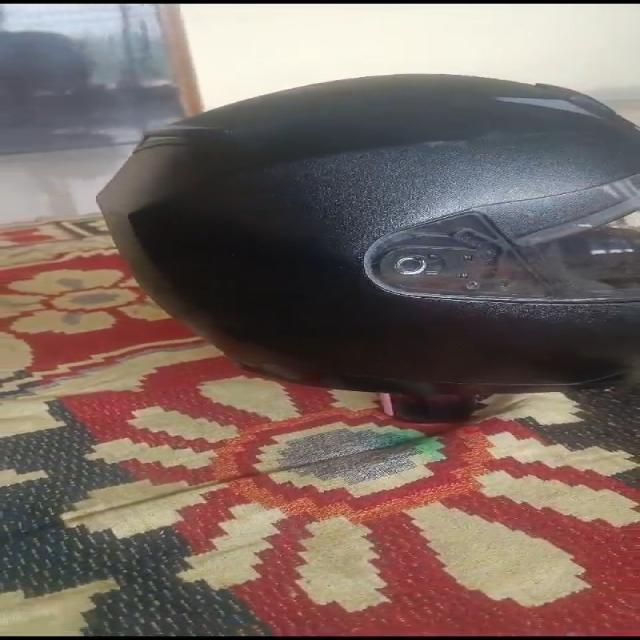Helmet: (99, 74, 639, 421)
